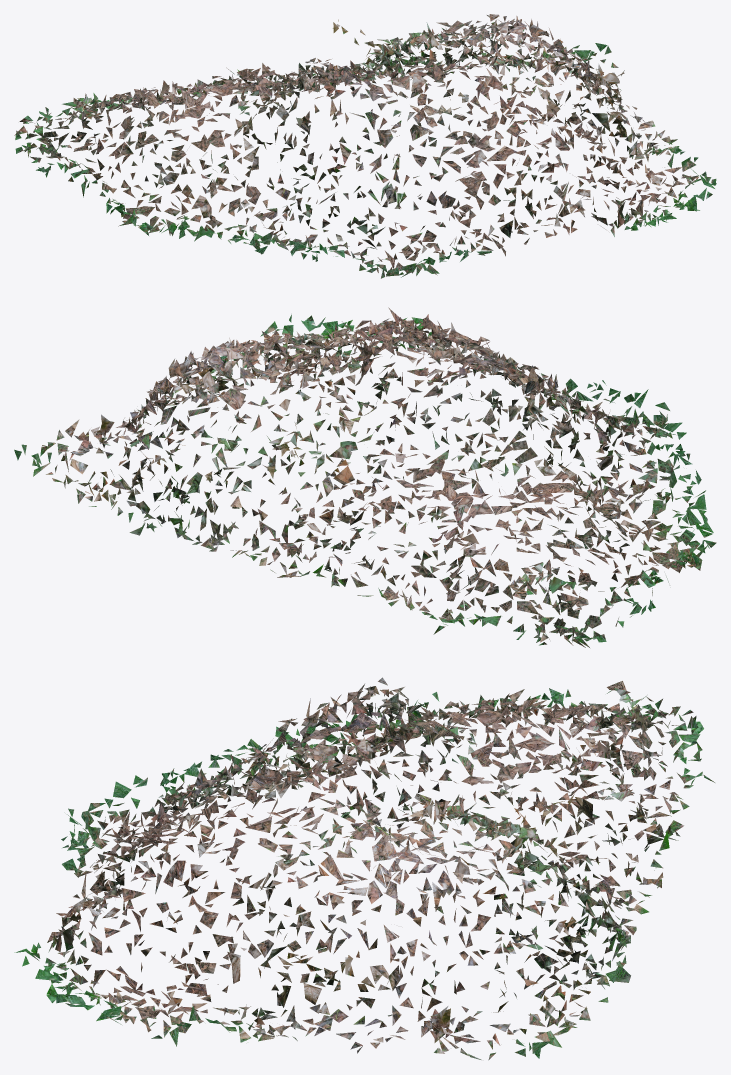
File: branch_heap.glb
3 renders of one model, top to bottom at view 1: azimuth 30°, elevation 25°; view 2: azimuth 150°, elevation 25°; view 3: azimuth 270°, elevation 25°, orthographic. The views are drawn at different scales.
Visible parts, largest first — view 1: Model_material0_0; view 2: Model_material0_0; view 3: Model_material0_0.
Boxes of the visible parts, box(x1,y1,x2,y2) form: Model_material0_0: box(14, 14, 716, 278); Model_material0_0: box(14, 307, 716, 647); Model_material0_0: box(14, 677, 714, 1060).
Size of the model in its own units: 2.62 by 0.6231 by 2.19.
4 materials, 4 textured.
